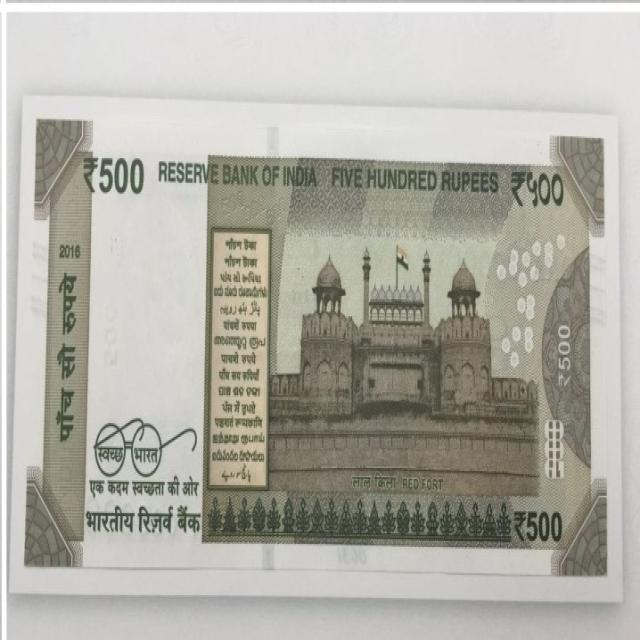500rs: (36, 122, 604, 568)
